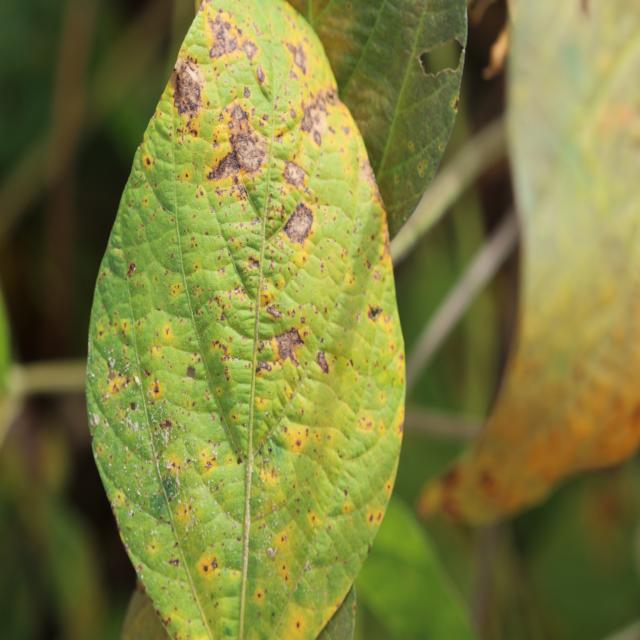Bacterial_Blight: (274, 200, 321, 241), (173, 59, 205, 116), (211, 182, 250, 225), (299, 91, 330, 144), (207, 15, 240, 60), (233, 131, 266, 174), (304, 337, 334, 382), (273, 326, 306, 364), (208, 149, 241, 182), (285, 40, 308, 74), (283, 160, 307, 189), (105, 371, 131, 397), (259, 462, 283, 488), (211, 339, 234, 365), (212, 122, 233, 150), (276, 552, 294, 584), (179, 116, 201, 142), (161, 472, 180, 501), (229, 103, 250, 126), (173, 500, 192, 525), (242, 39, 259, 63), (146, 377, 163, 401), (163, 453, 182, 474), (367, 303, 383, 321), (266, 303, 283, 319), (256, 64, 268, 86), (105, 365, 117, 384), (256, 360, 273, 373), (169, 282, 182, 298), (185, 365, 196, 381), (126, 261, 136, 278), (159, 418, 172, 430), (267, 546, 278, 559), (243, 85, 251, 99), (168, 557, 179, 567), (108, 358, 115, 370), (218, 266, 226, 276), (211, 559, 218, 569), (183, 170, 190, 180), (136, 563, 143, 573), (130, 401, 137, 410), (205, 461, 212, 470), (219, 312, 226, 321), (262, 113, 269, 122), (144, 368, 151, 377), (145, 156, 151, 166), (218, 111, 224, 121), (237, 455, 243, 464), (295, 621, 301, 630), (343, 488, 348, 498), (369, 513, 374, 523), (203, 564, 209, 572), (300, 316, 306, 324), (256, 592, 262, 600), (296, 439, 301, 447), (165, 328, 170, 336), (228, 121, 233, 129), (236, 536, 241, 542), (268, 446, 272, 453)
Soybean: (87, 0, 405, 640)
